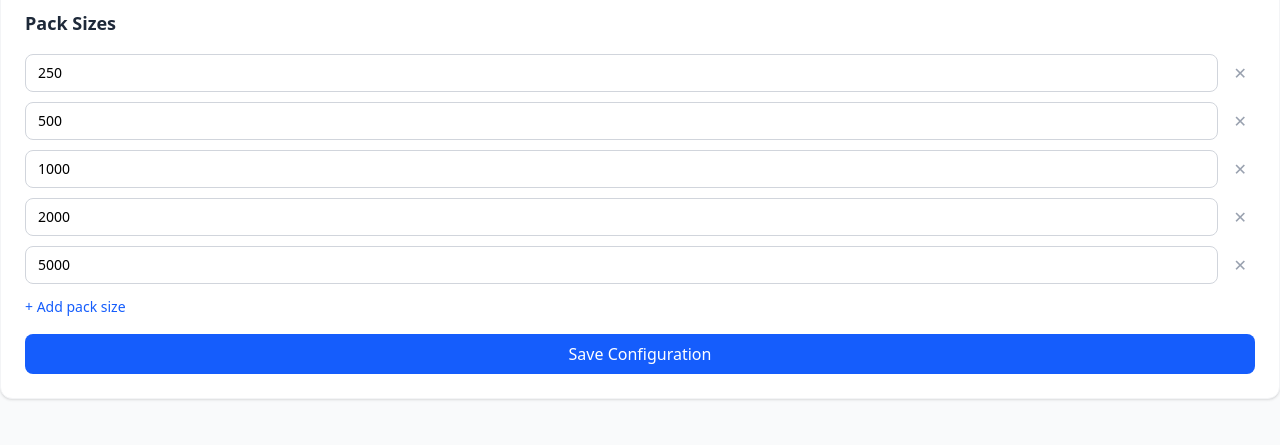
Test: shows validation error for non-positive value
Replace the text in the number field showing "250" with "-5": (621,73) [25,54,1218,92]
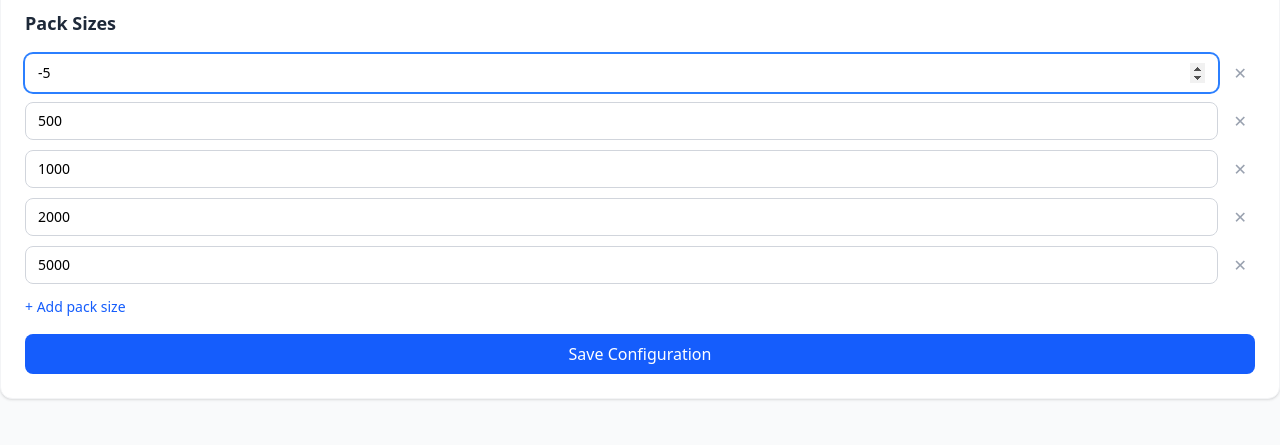
Click the button "Save Configuration": (640,354) [25,334,1255,374]
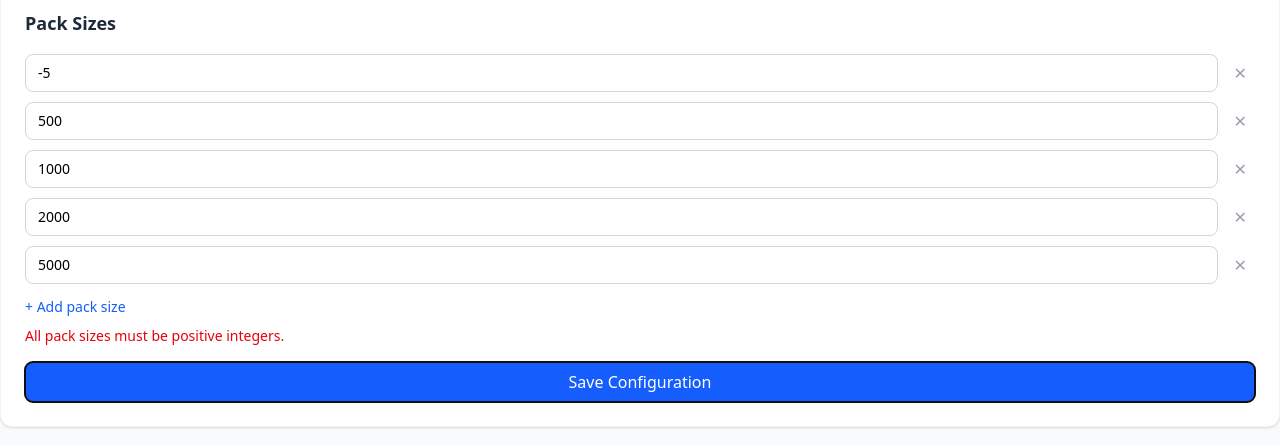
Expected: the message shows "positive integers", [25,326,284,345]
